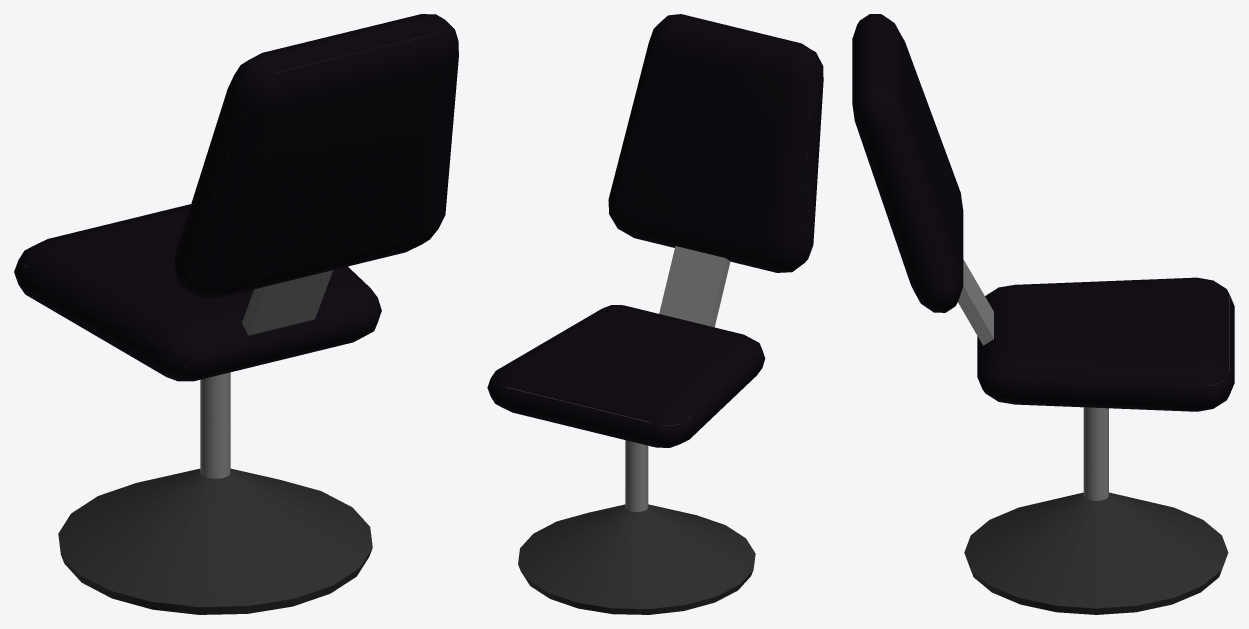
File: Quarters_Chair.fbx
The picture shows the model from 3 angles, left to right: view 1: azimuth 30°, elevation 25°; view 2: azimuth 150°, elevation 25°; view 3: azimuth 270°, elevation 25°; orthographic projection. The views are drawn at different scales.
Parts seen in each view (by area): view 1: Quarters_Chair; view 2: Quarters_Chair; view 3: Quarters_Chair.
Boxes of the visible parts, <box> form: Quarters_Chair: <box>14,14,458,614</box>; Quarters_Chair: <box>487,14,823,614</box>; Quarters_Chair: <box>852,14,1234,614</box>.
Size of the model in its own units: 168 by 358 by 243.
